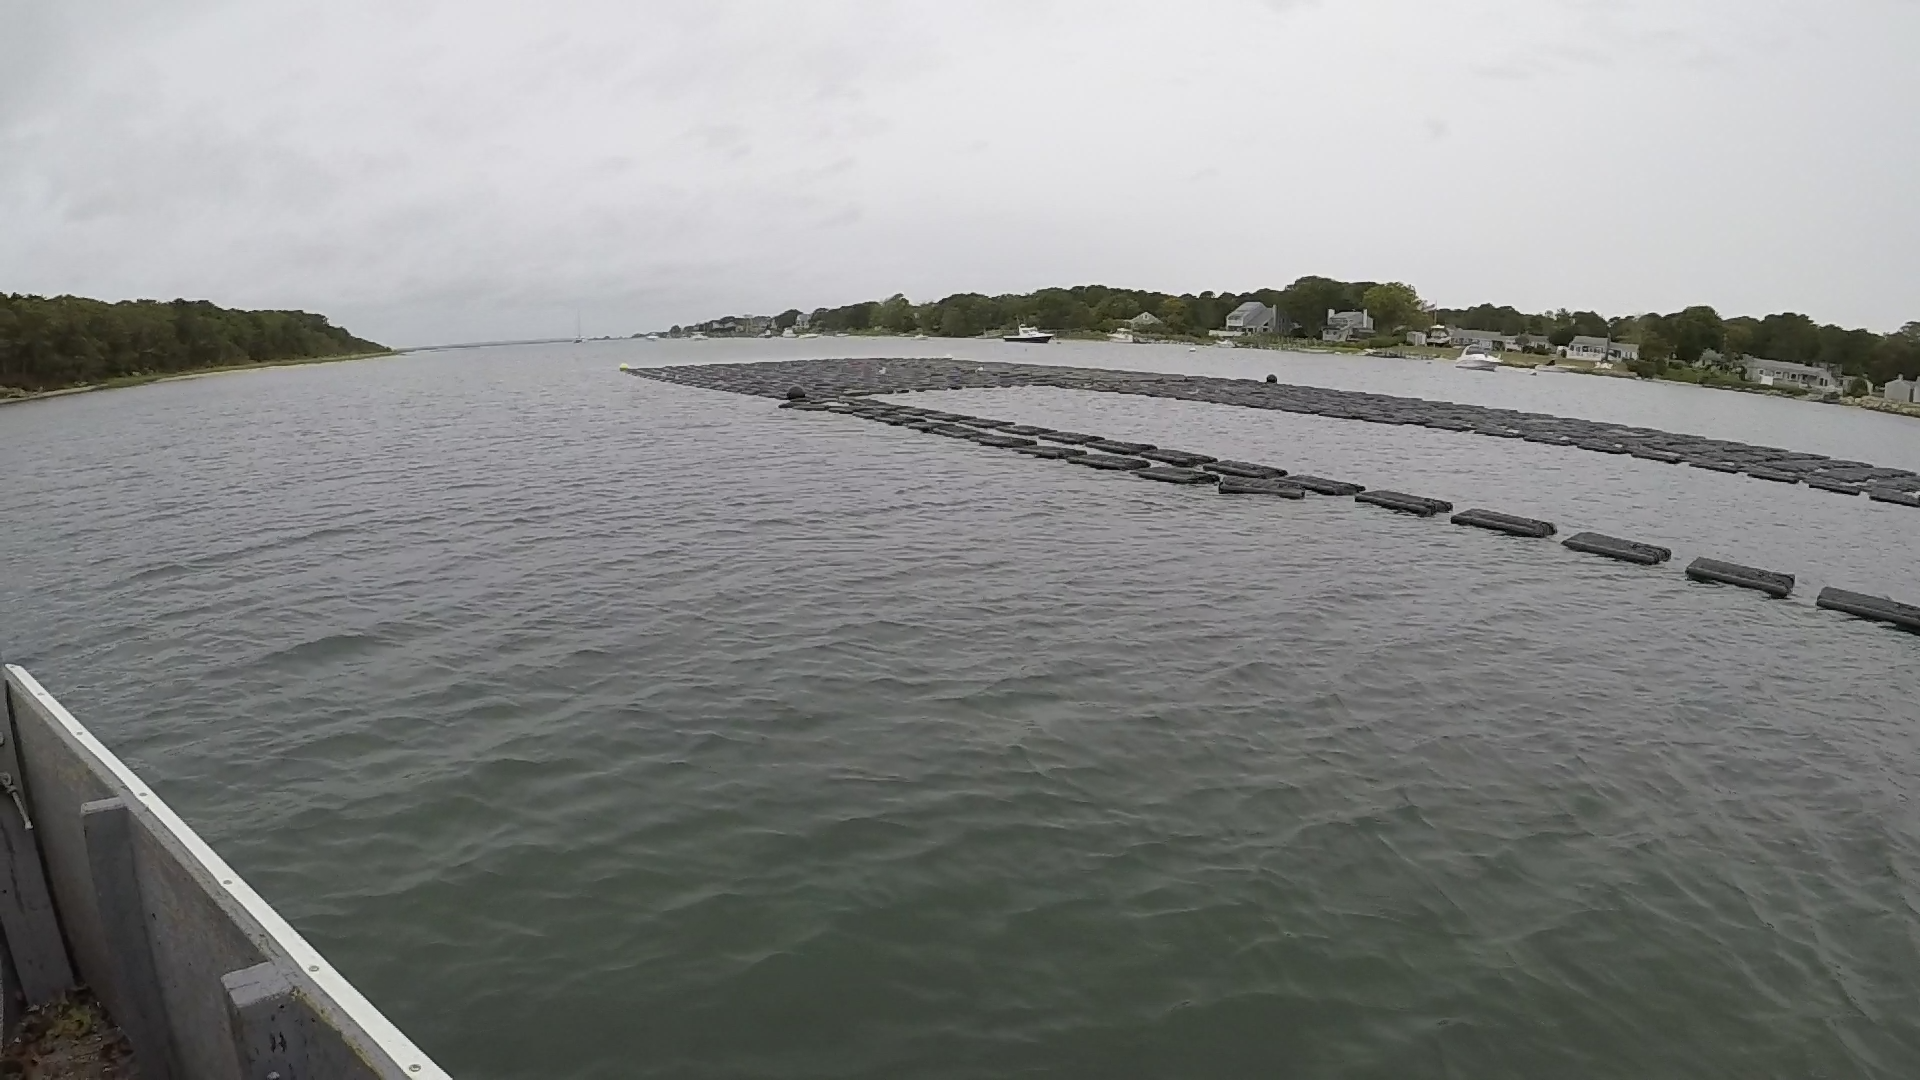bag: (1685, 550, 1799, 600), (1565, 527, 1672, 567), (1449, 502, 1557, 541)
